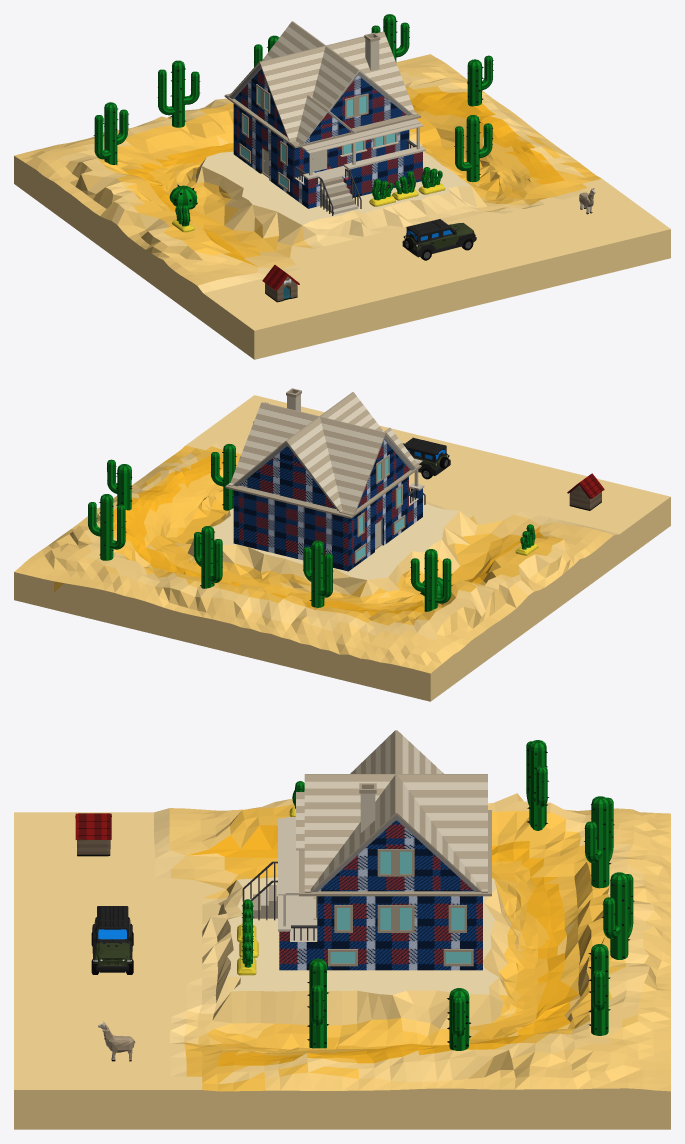
3 renders of one model, top to bottom at view 1: azimuth 30°, elevation 25°; view 2: azimuth 150°, elevation 25°; view 3: azimuth 270°, elevation 25°, orthographic. The views are drawn at different scales.
Parts seen in each view (by area): view 1: Cube.001, Cube.171, VEHICLES_JEEP, Cylinder.037, Cylinder.044, Cylinder.045, Cylinder.038, OBJRANDOM_DOGHOUSE, Cylinder.042, Cylinder.039, Cylinder.041, Sphere.023 (+1 smaller); view 2: Cube.001, Cube.171, Cylinder.042, Cylinder.045, Cylinder.044, Cylinder.043, VEHICLES_JEEP, Cylinder.037, Cylinder.038, OBJRANDOM_DOGHOUSE; view 3: Cube.001, Cube.171, VEHICLES_JEEP, Cylinder.043, Cylinder.044, Cylinder.045, Cylinder.042, Cylinder.037, OBJRANDOM_DOGHOUSE, Cylinder.038, ANIMAL_LLAMA, Cylinder.041.
Boxes of the visible parts, left/top/right/bottom form: Cube.001: left=14, top=54, right=670, bottom=359; Cube.171: left=224, top=21, right=425, bottom=215; VEHICLES_JEEP: left=402, top=219, right=476, bottom=260; Cylinder.037: left=454, top=115, right=493, bottom=182; Cylinder.044: left=157, top=60, right=200, bottom=127; Cylinder.045: left=93, top=102, right=129, bottom=164; Cylinder.038: left=467, top=55, right=493, bottom=106; OBJRANDOM_DOGHOUSE: left=262, top=265, right=299, bottom=302; Cylinder.042: left=371, top=14, right=409, bottom=62; Cylinder.039: left=369, top=179, right=395, bottom=206; Cylinder.041: left=418, top=167, right=445, bottom=194; Sphere.023: left=169, top=184, right=197, bottom=209; Cube.001: left=14, top=395, right=670, bottom=701; Cube.171: left=225, top=388, right=425, bottom=571; Cylinder.042: left=88, top=494, right=126, bottom=560; Cylinder.045: left=410, top=549, right=452, bottom=611; Cylinder.044: left=303, top=540, right=333, bottom=607; Cylinder.043: left=193, top=526, right=222, bottom=588; VEHICLES_JEEP: left=403, top=437, right=450, bottom=479; Cylinder.037: left=211, top=444, right=240, bottom=510; Cylinder.038: left=107, top=459, right=131, bottom=510; OBJRANDOM_DOGHOUSE: left=567, top=473, right=604, bottom=510; Cube.001: left=14, top=793, right=670, bottom=1129; Cube.171: left=242, top=730, right=491, bottom=970; VEHICLES_JEEP: left=91, top=906, right=133, bottom=974; Cylinder.043: left=602, top=872, right=634, bottom=959; Cylinder.044: left=584, top=796, right=614, bottom=888; Cylinder.045: left=526, top=740, right=548, bottom=830; Cylinder.042: left=588, top=944, right=610, bottom=1035; Cylinder.037: left=307, top=958, right=328, bottom=1048; OBJRANDOM_DOGHOUSE: left=75, top=813, right=111, bottom=856; Cylinder.038: left=447, top=988, right=471, bottom=1050; ANIMAL_LLAMA: left=98, top=1021, right=135, bottom=1061; Cylinder.041: left=237, top=932, right=256, bottom=975.
Bounding box in the file's own units: 4002 × 1728 × 4001.
32 materials, 3 textured.
